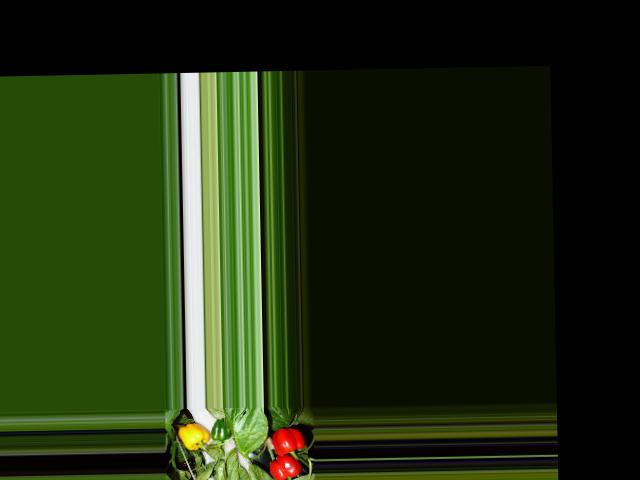bell_pepper: (175, 420, 211, 451)
